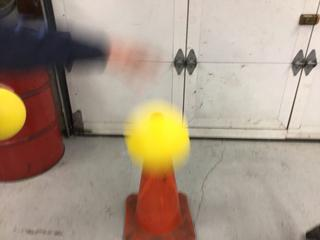power_cell: (123, 95, 196, 175), (1, 82, 29, 139)
